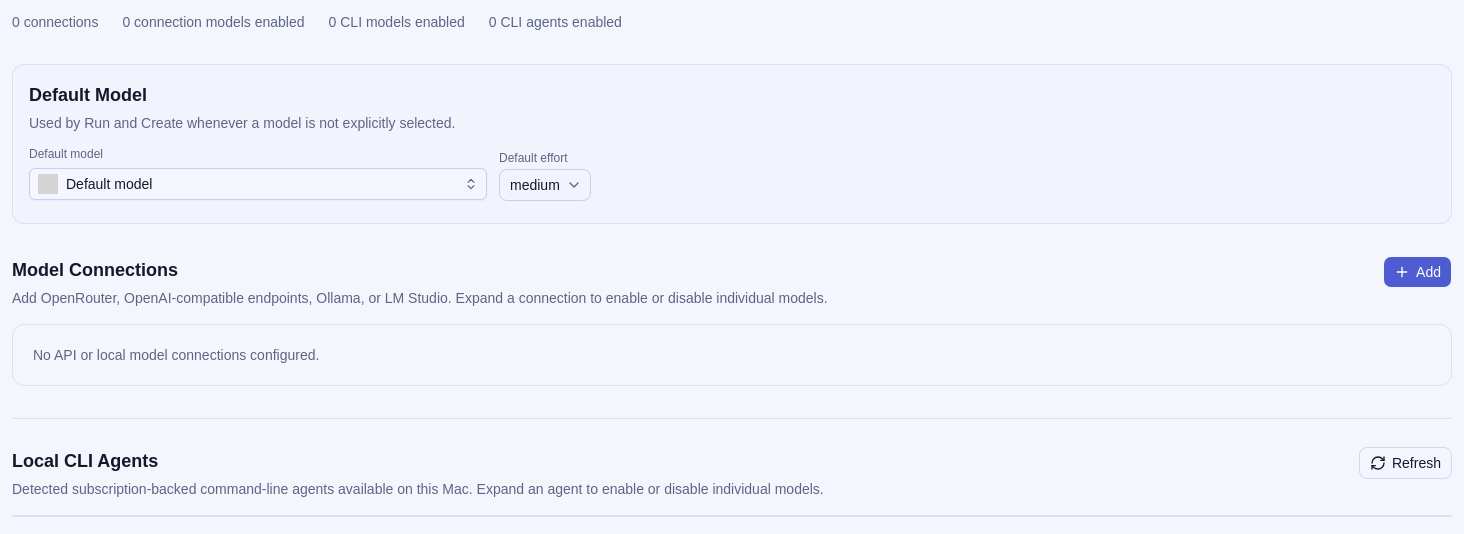
Scenario: offers the default model's own levels, and never itself
The width and height of the screenshot is (1464, 534).
Click the dropdown named "Default effort" at {"x": 545, "y": 185}, box [499,169,591,201]
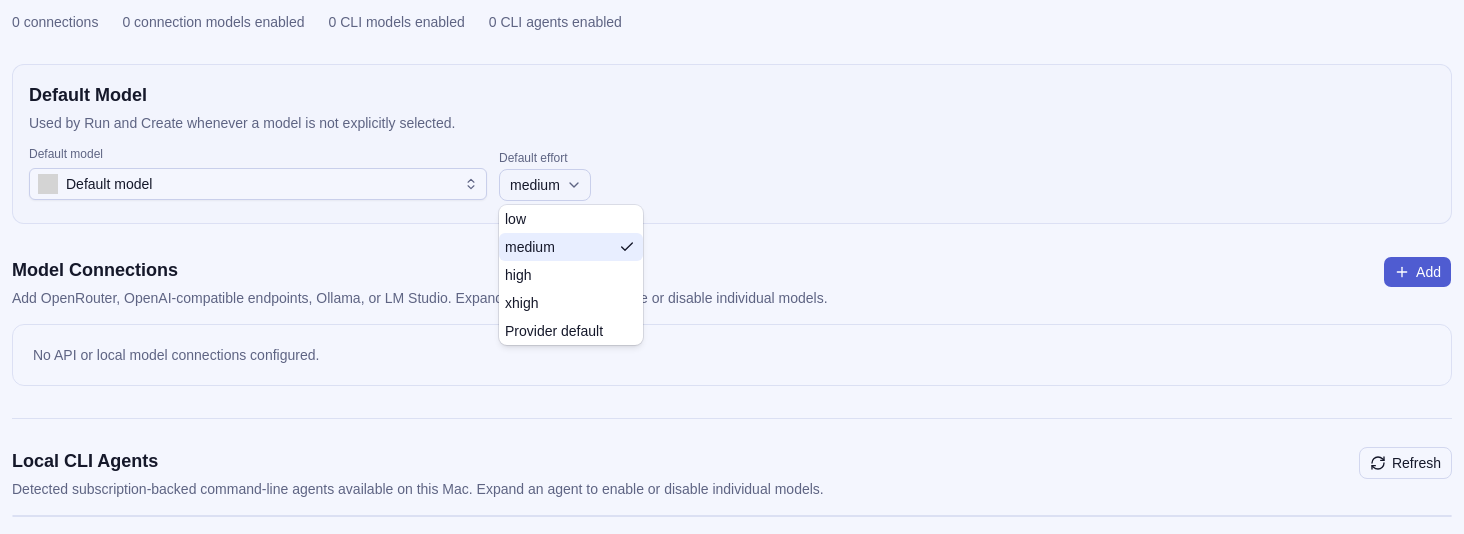
Check: the option "xhigh" is shown, box [505,295,538,311]
Check: the option "Provider default" is shown, box [505,323,603,339]
